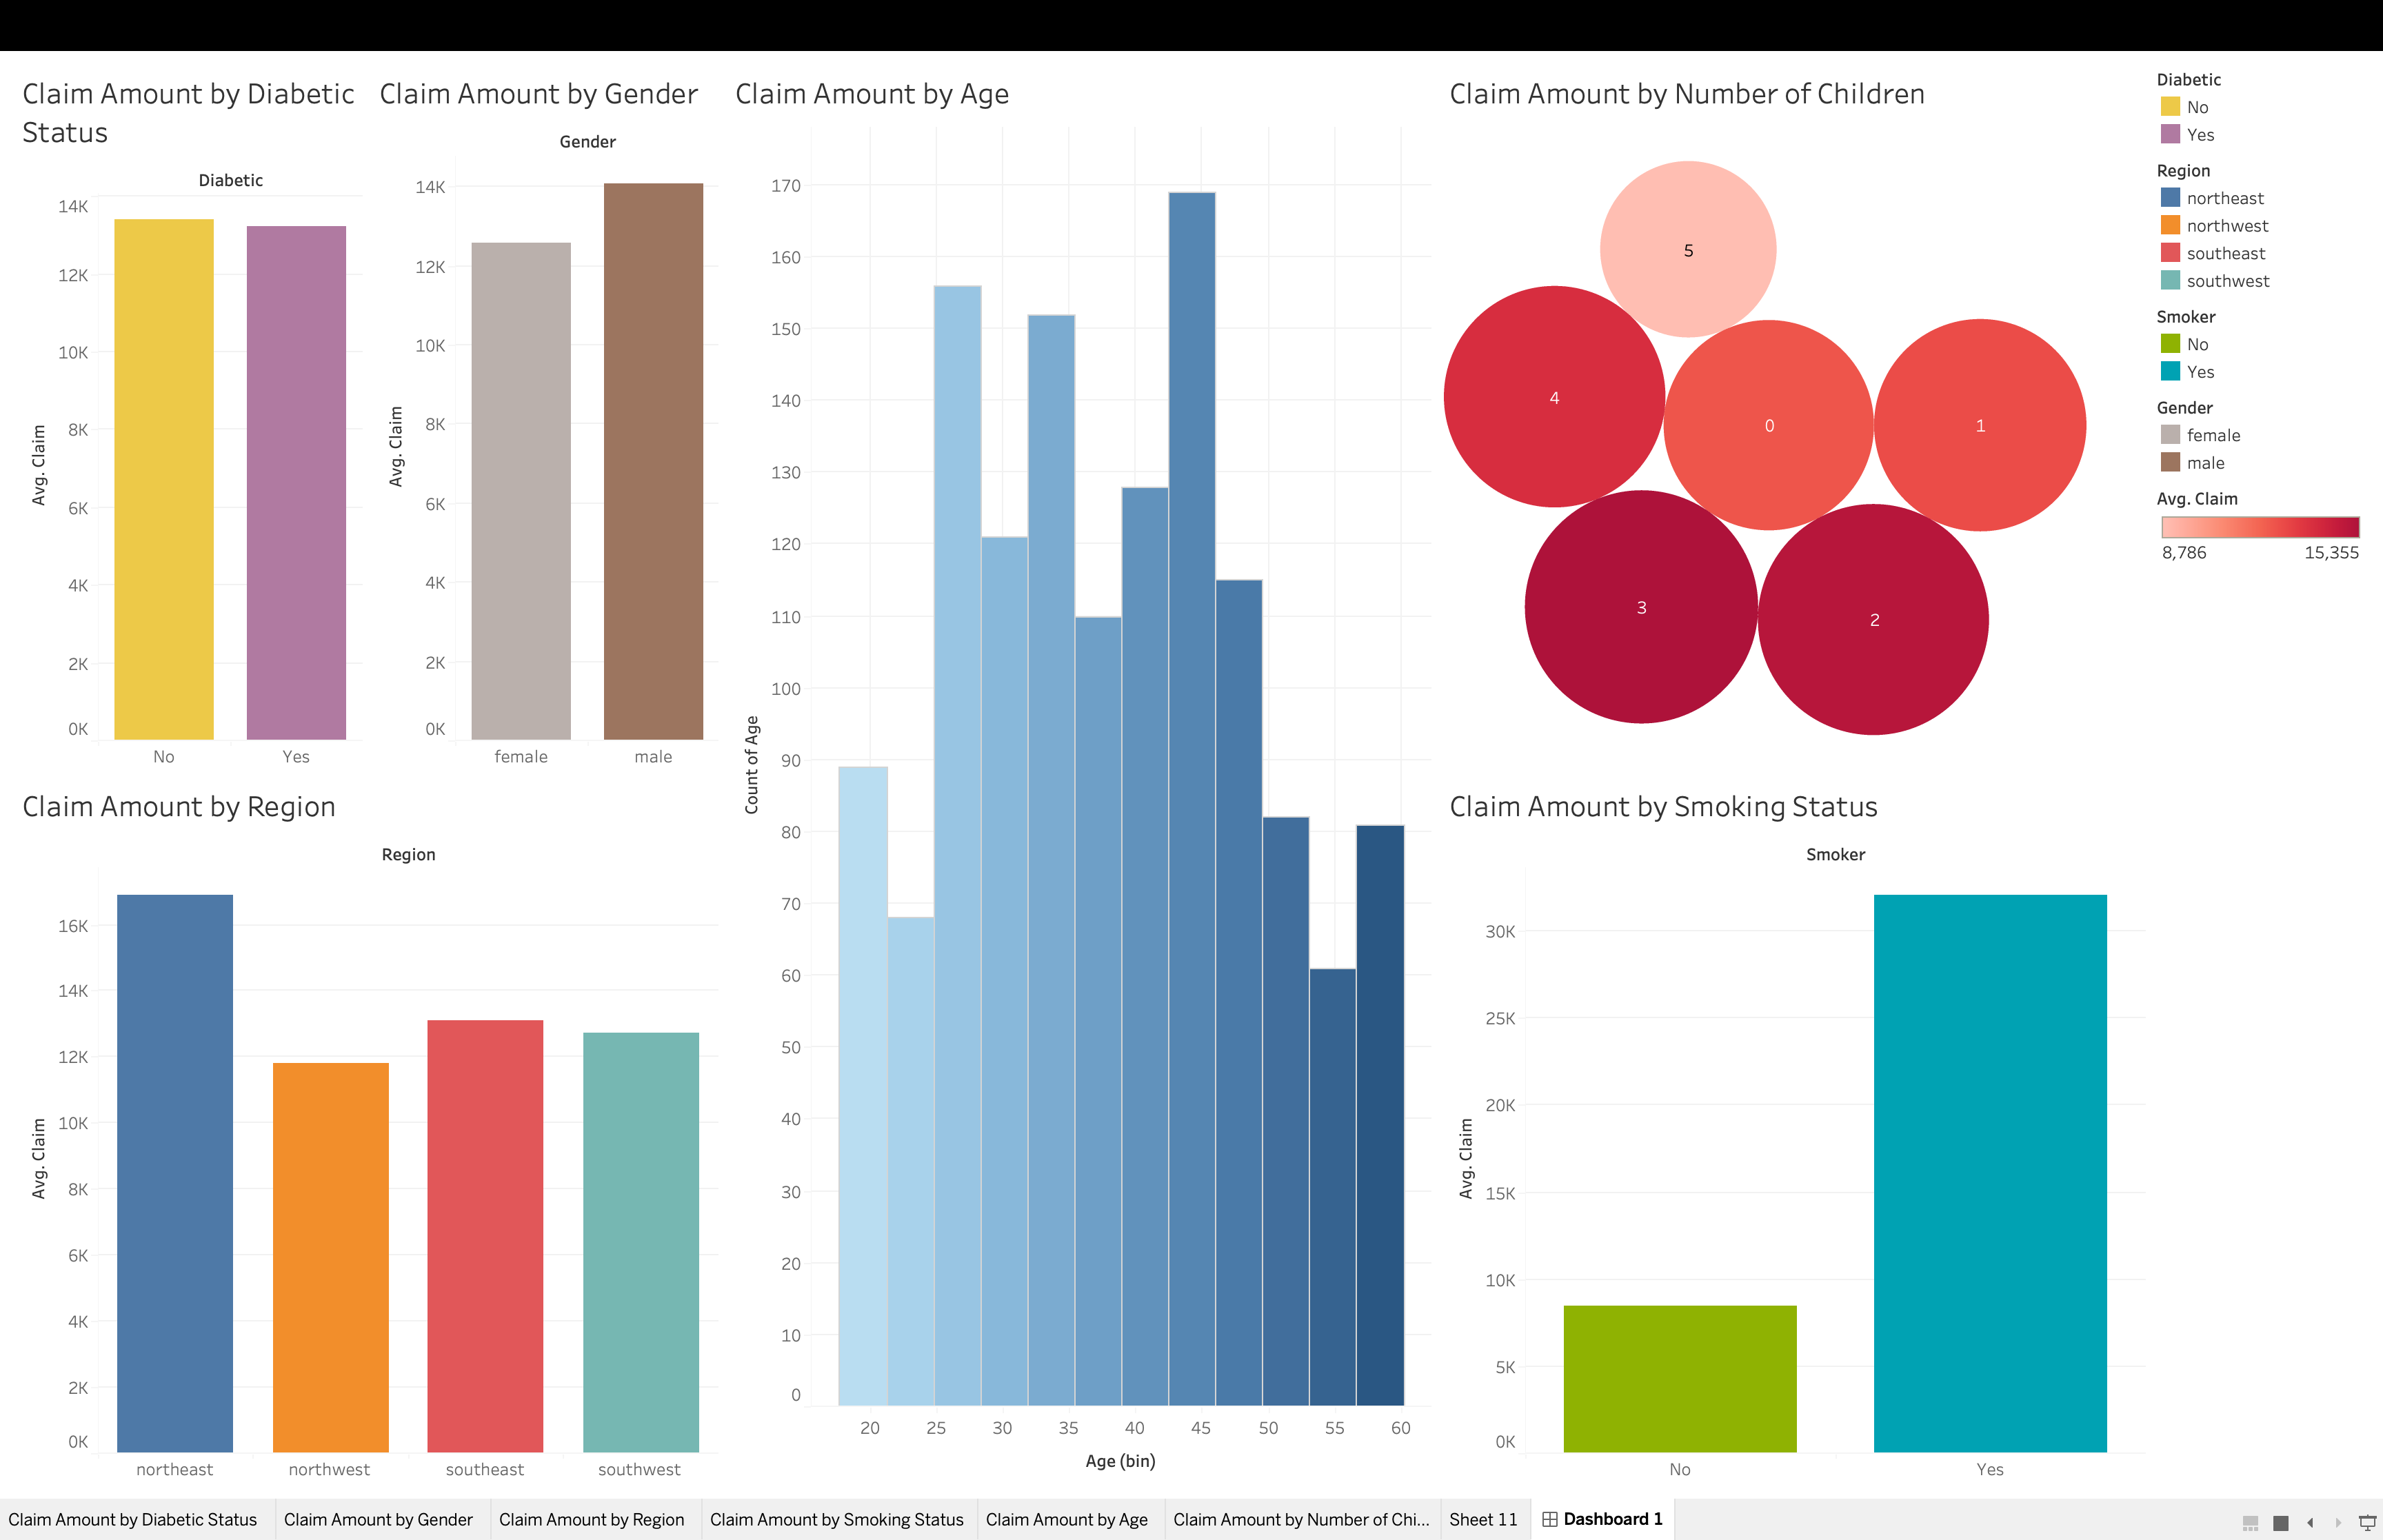

This screenshot's page, from the dashboard's own definition file:
{"tool":"tableau","page":{"name":"Dashboard 1","canvas":[1000,1000],"units":"permille","ordinal":0},"visuals":[{"type":"worksheet","title":"Claim Amount by Diabetic Status","mark":"Automatic","rows":["claim"],"cols":["diabetic"],"box":[5.3,8.8,147.3,491.2]},{"type":"worksheet","title":"Claim Amount by Gender","mark":"Automatic","rows":["claim"],"cols":["gender"],"box":[152.6,8.8,147.3,491.2]},{"type":"worksheet","title":"Claim Amount by Age","mark":"Automatic","rows":["age"],"cols":["Age (bin)"],"box":[299.9,8.8,294.7,982.4]},{"type":"worksheet","title":"Claim Amount by Number of Children","mark":"Circle","box":[594.6,8.8,294.7,491.2]},{"type":"legend","title":"Claim Amount by Diabetic Status","param":"[federated.1v3d5p818r9ycf10diz7l1tqg3g1].[none:diabetic:nk]","box":[889.3,8.8,105.5,72.8]},{"type":"legend","title":"Claim Amount by Region","param":"[federated.1v3d5p818r9ycf10diz7l1tqg3g1].[none:region:nk]","box":[889.3,81.6,105.5,116.9]},{"type":"legend","title":"Claim Amount by Smoking Status","param":"[federated.1v3d5p818r9ycf10diz7l1tqg3g1].[none:smoker:nk]","box":[889.3,198.5,105.5,72.8]},{"type":"legend","title":"Claim Amount by Gender","param":"[federated.1v3d5p818r9ycf10diz7l1tqg3g1].[none:gender:nk]","box":[889.3,271.2,105.5,72.8]},{"type":"legend","title":"Claim Amount by Number of Children","param":"[federated.1v3d5p818r9ycf10diz7l1tqg3g1].[avg:claim:qk]","box":[889.3,344,105.5,71.7]},{"type":"worksheet","title":"Claim Amount by Region","mark":"Automatic","rows":["claim"],"cols":["region"],"box":[5.3,500,294.7,491.2]},{"type":"worksheet","title":"Claim Amount by Smoking Status","mark":"Automatic","rows":["claim"],"cols":["smoker"],"box":[594.6,500,294.7,491.2]}]}

Visuals, with their boxes on the dashboard's canvas, which has no fixed pixel size, in thousandths of its width and height (x1, y1, x2, y2). These are canvas units, not pixel positions in the 2383x1540 screenshot, which may show the page scaled, cropped or inside an application window:
"Claim Amount by Diabetic Status" worksheet: [left=5, top=9, right=153, bottom=500]
"Claim Amount by Gender" worksheet: [left=153, top=9, right=300, bottom=500]
"Claim Amount by Age" worksheet: [left=300, top=9, right=595, bottom=991]
"Claim Amount by Number of Children" worksheet (Circle marks): [left=595, top=9, right=889, bottom=500]
"Claim Amount by Diabetic Status" legend: [left=889, top=9, right=995, bottom=82]
"Claim Amount by Region" legend: [left=889, top=82, right=995, bottom=198]
"Claim Amount by Smoking Status" legend: [left=889, top=198, right=995, bottom=271]
"Claim Amount by Gender" legend: [left=889, top=271, right=995, bottom=344]
"Claim Amount by Number of Children" legend: [left=889, top=344, right=995, bottom=416]
"Claim Amount by Region" worksheet: [left=5, top=500, right=300, bottom=991]
"Claim Amount by Smoking Status" worksheet: [left=595, top=500, right=889, bottom=991]
